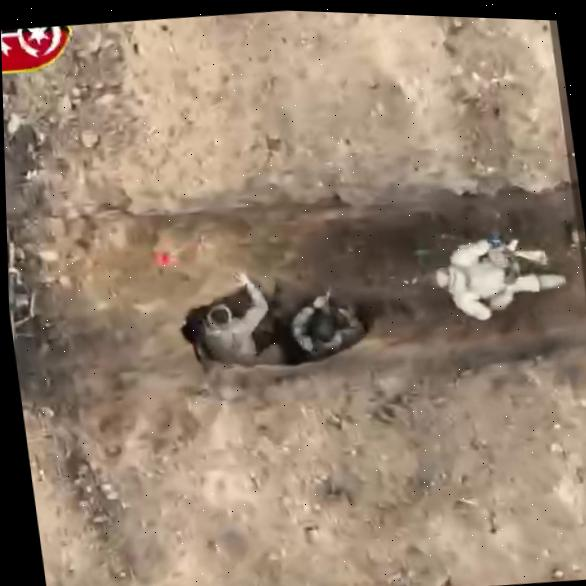person: (414, 226, 570, 327), (190, 274, 292, 371), (287, 292, 374, 360)
trench: (4, 145, 586, 432)
